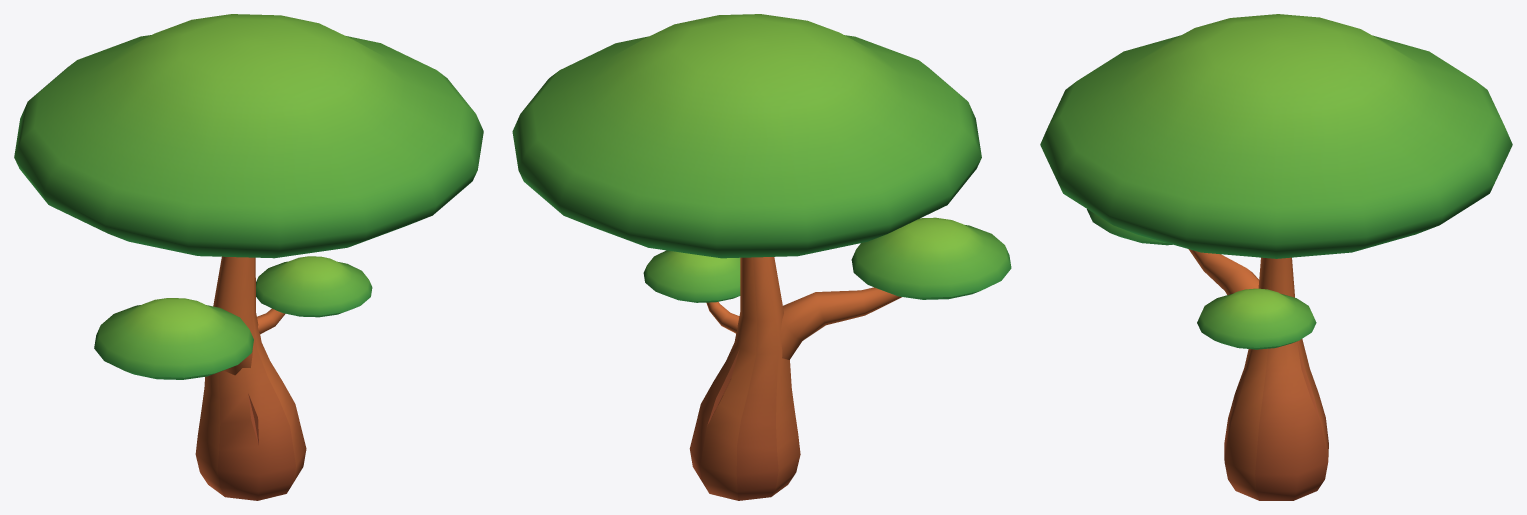
The model's file is Tree3B.glb.
3 renders of one model, left to right at view 1: azimuth 30°, elevation 25°; view 2: azimuth 150°, elevation 25°; view 3: azimuth 270°, elevation 25°, orthographic.
Parts seen in each view (by area): view 1: Tree_3_B_Color1; view 2: Tree_3_B_Color1; view 3: Tree_3_B_Color1.
Part boxes in pixels (x1,y1,x2,y2): Tree_3_B_Color1: [14, 14, 483, 500]; Tree_3_B_Color1: [512, 14, 1011, 500]; Tree_3_B_Color1: [1040, 14, 1512, 500].
Size of the model in its own units: 4.13 by 4.35 by 4.13.
Materials: 1 (1 with a texture image).
